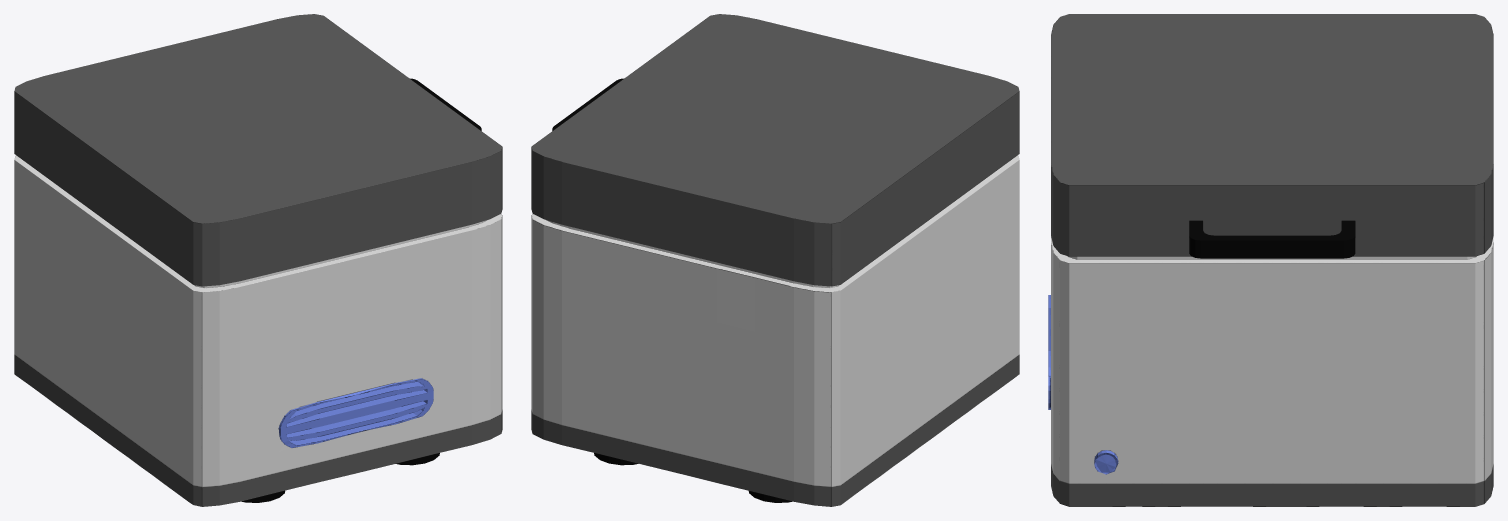
Rendered from Spawner.fbx.
3 views of the same model, side by side, from view 1: azimuth 30°, elevation 25°; view 2: azimuth 150°, elevation 25°; view 3: azimuth 270°, elevation 25° (orthographic). The views are drawn at different scales.
Visible parts, largest first — view 1: Cube; view 2: Cube; view 3: Cube.
Part boxes in pixels (x1,y1,x2,y2): Cube: [14, 14, 502, 506]; Cube: [531, 14, 1019, 506]; Cube: [1048, 14, 1493, 506].
Size of the model in its own units: 223 by 184 by 220.
